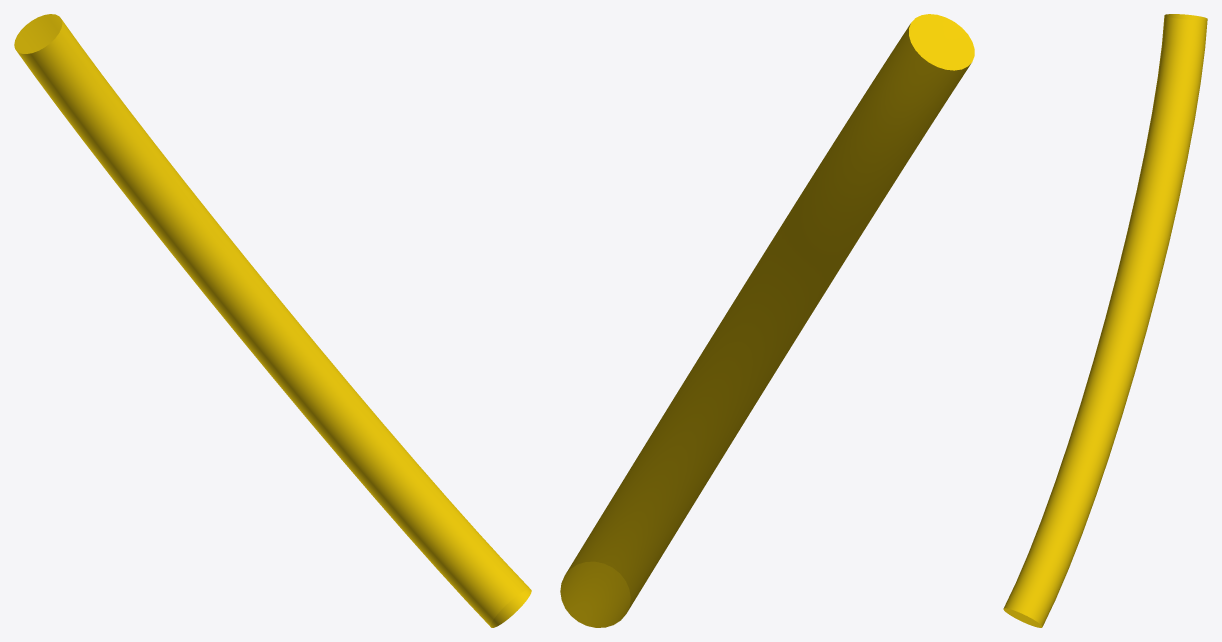
File: Event_421556567_track_17.fbx
3 renders of one model, left to right at view 1: azimuth 30°, elevation 25°; view 2: azimuth 150°, elevation 25°; view 3: azimuth 270°, elevation 25°, orthographic. The views are drawn at different scales.
Visible parts, largest first — view 1: Model; view 2: Model; view 3: Model.
Part boxes in pixels (x1,y1,x2,y2): Model: (14, 14, 531, 627); Model: (560, 14, 974, 627); Model: (1003, 14, 1207, 627).
Bounding box in the file's own units: 0.3407 × 0.4917 × 0.1882.
